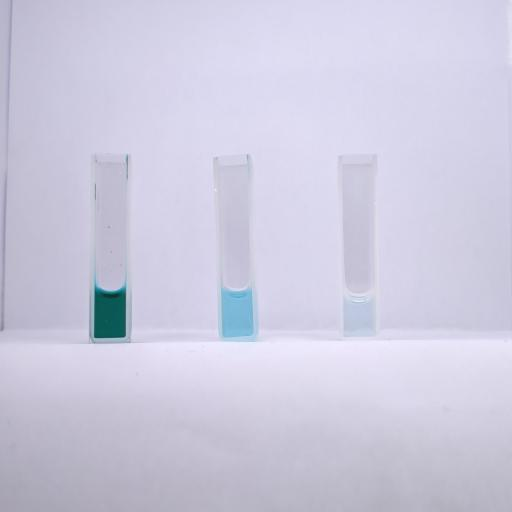cuvette: (212, 152, 259, 342), (88, 151, 134, 344), (337, 151, 381, 341)
liquid: (95, 288, 126, 338), (222, 286, 253, 336), (343, 292, 375, 336)
